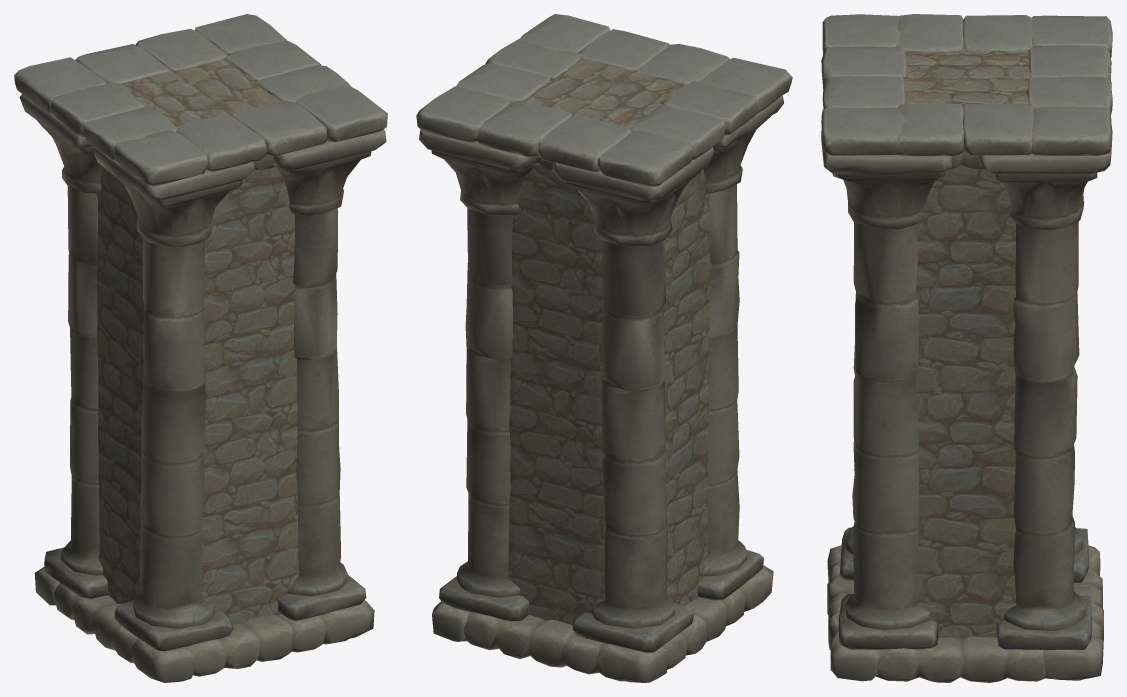
The model's file is SM_FW01_Ruins_Int_Pillar_B_2x6_02.fbx.
3 renders of one model, left to right at view 1: azimuth 30°, elevation 25°; view 2: azimuth 150°, elevation 25°; view 3: azimuth 270°, elevation 25°, orthographic. The views are drawn at different scales.
Visible parts, largest first — view 1: SM_FW01_Ruins_Int_Pillar_B_2x6_02_LOD0, SM_FW01_Ruins_Int_Pillar_B_2x6_02; view 2: SM_FW01_Ruins_Int_Pillar_B_2x6_02_LOD0, SM_FW01_Ruins_Int_Pillar_B_2x6_02; view 3: SM_FW01_Ruins_Int_Pillar_B_2x6_02_LOD0, SM_FW01_Ruins_Int_Pillar_B_2x6_02.
Part boxes in pixels (x1,y1,x2,y2): SM_FW01_Ruins_Int_Pillar_B_2x6_02_LOD0: (14,14,387,682); SM_FW01_Ruins_Int_Pillar_B_2x6_02: (95,48,298,624); SM_FW01_Ruins_Int_Pillar_B_2x6_02_LOD0: (416,14,792,682); SM_FW01_Ruins_Int_Pillar_B_2x6_02: (503,58,711,625); SM_FW01_Ruins_Int_Pillar_B_2x6_02_LOD0: (821,14,1112,682); SM_FW01_Ruins_Int_Pillar_B_2x6_02: (892,40,1035,639).
Size of what is drawn, in the model's own units: 2.98 by 6.13 by 2.93.
